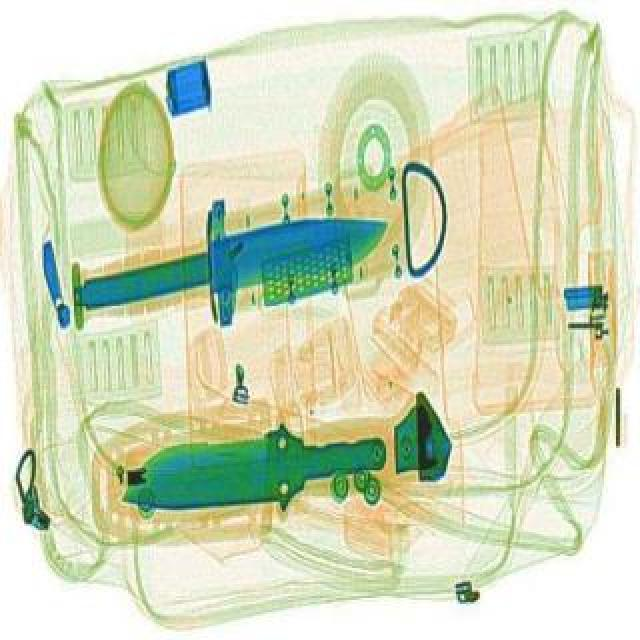knife: (52, 158, 412, 362), (112, 394, 398, 540)
